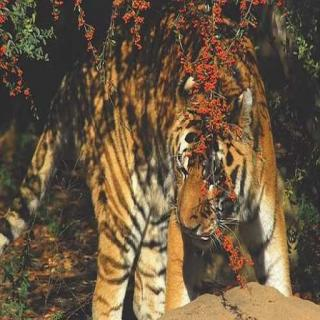Tiger: (17, 22, 290, 301)
